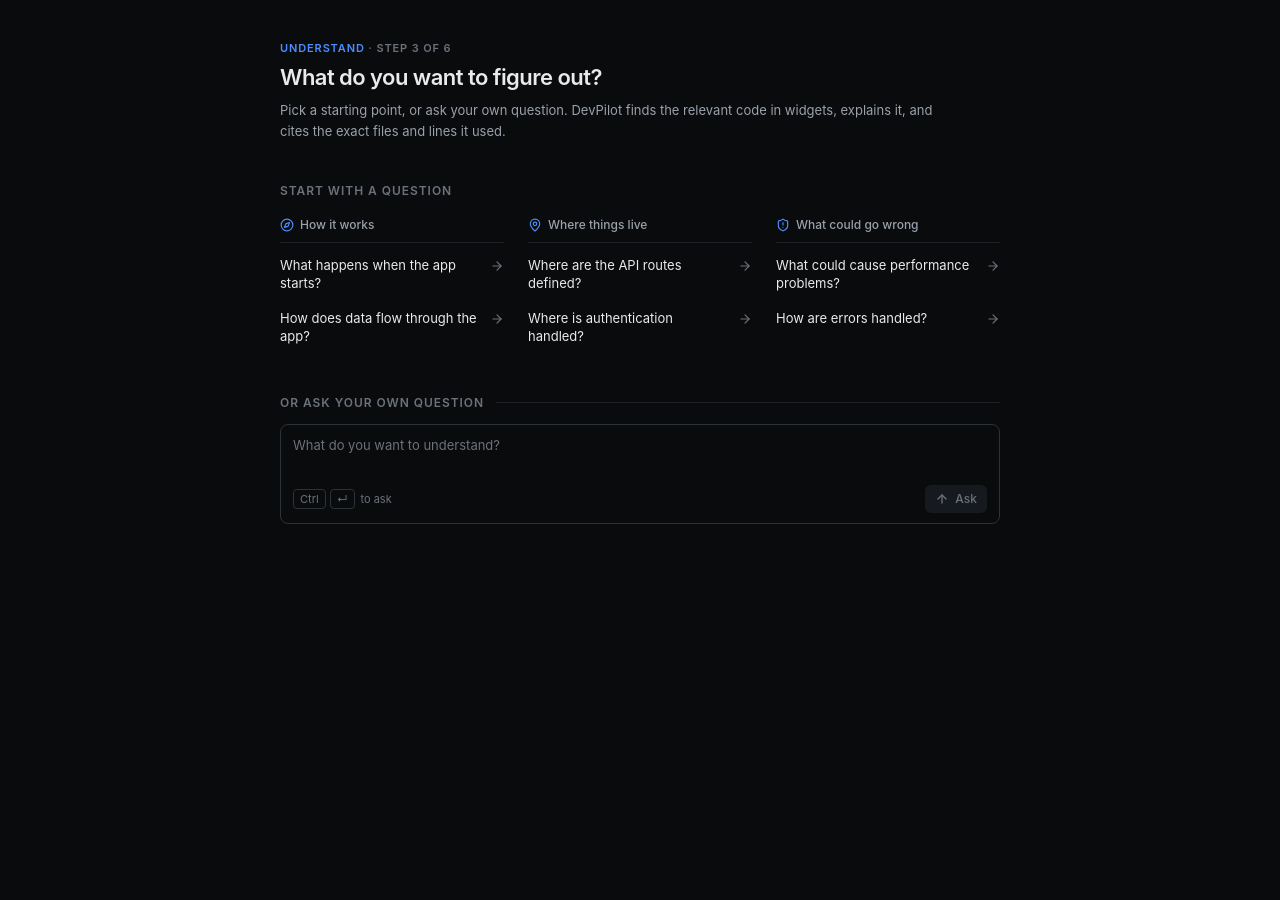
Test: ConversationPane — the result › keeps retrieval diagnostics behind a toggle
Type "Where is useMemo used?" into the text box at {"x": 640, "y": 455}, box [281,425,999,485]
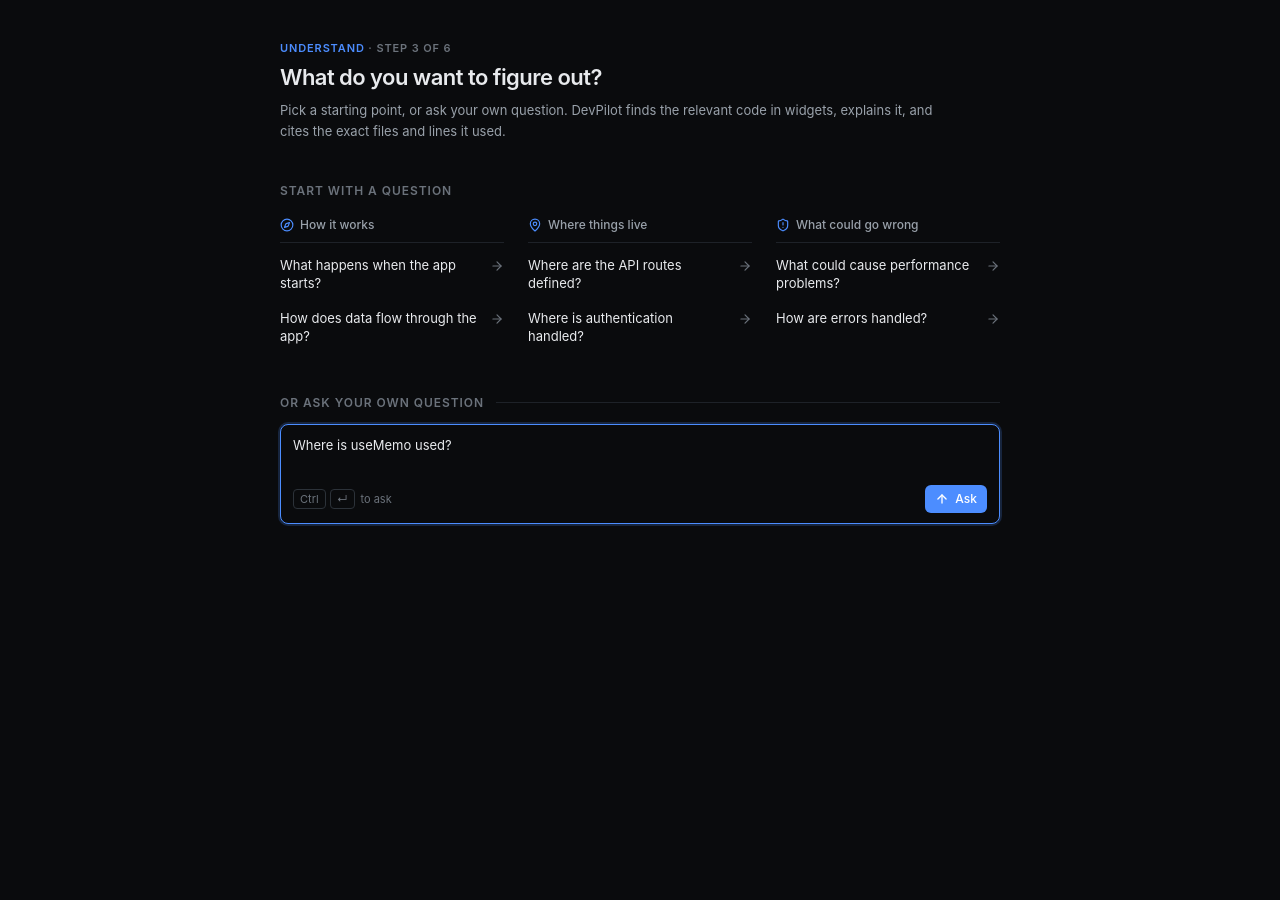
Click the button "Ask" at {"x": 956, "y": 499}, box [925,485,987,513]
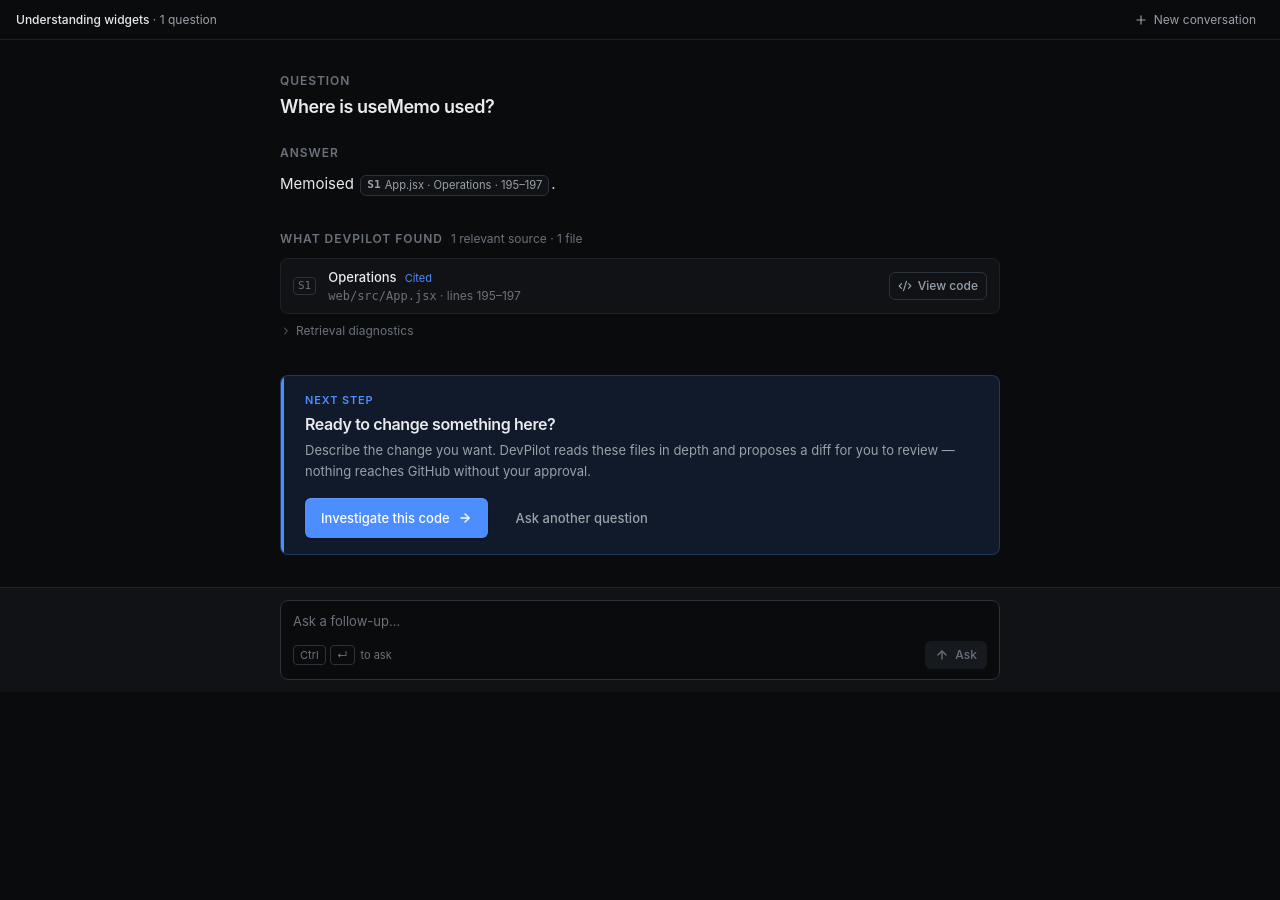
Expected: the text "semantic 0.660" is not shown
Result: the element "What DevPilot found" is shown at [280,230,1000,343]
Click the button "Retrieval diagnostics" at {"x": 347, "y": 331}, box [280,322,414,340]
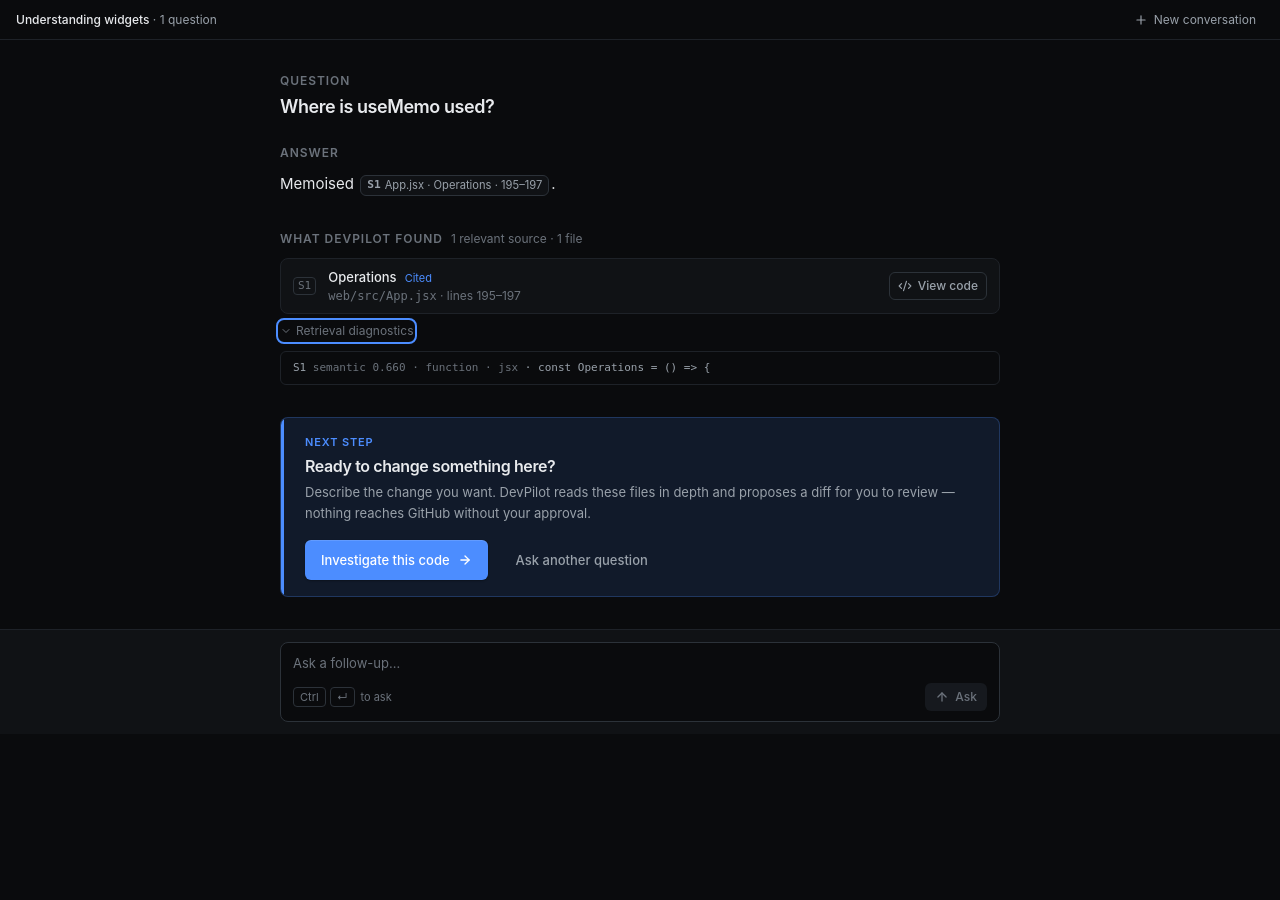
Result: the button "Retrieval diagnostics" is expanded at [280,322,414,340]
Result: the list item "semantic 0.660" is shown at [293,361,710,374]
